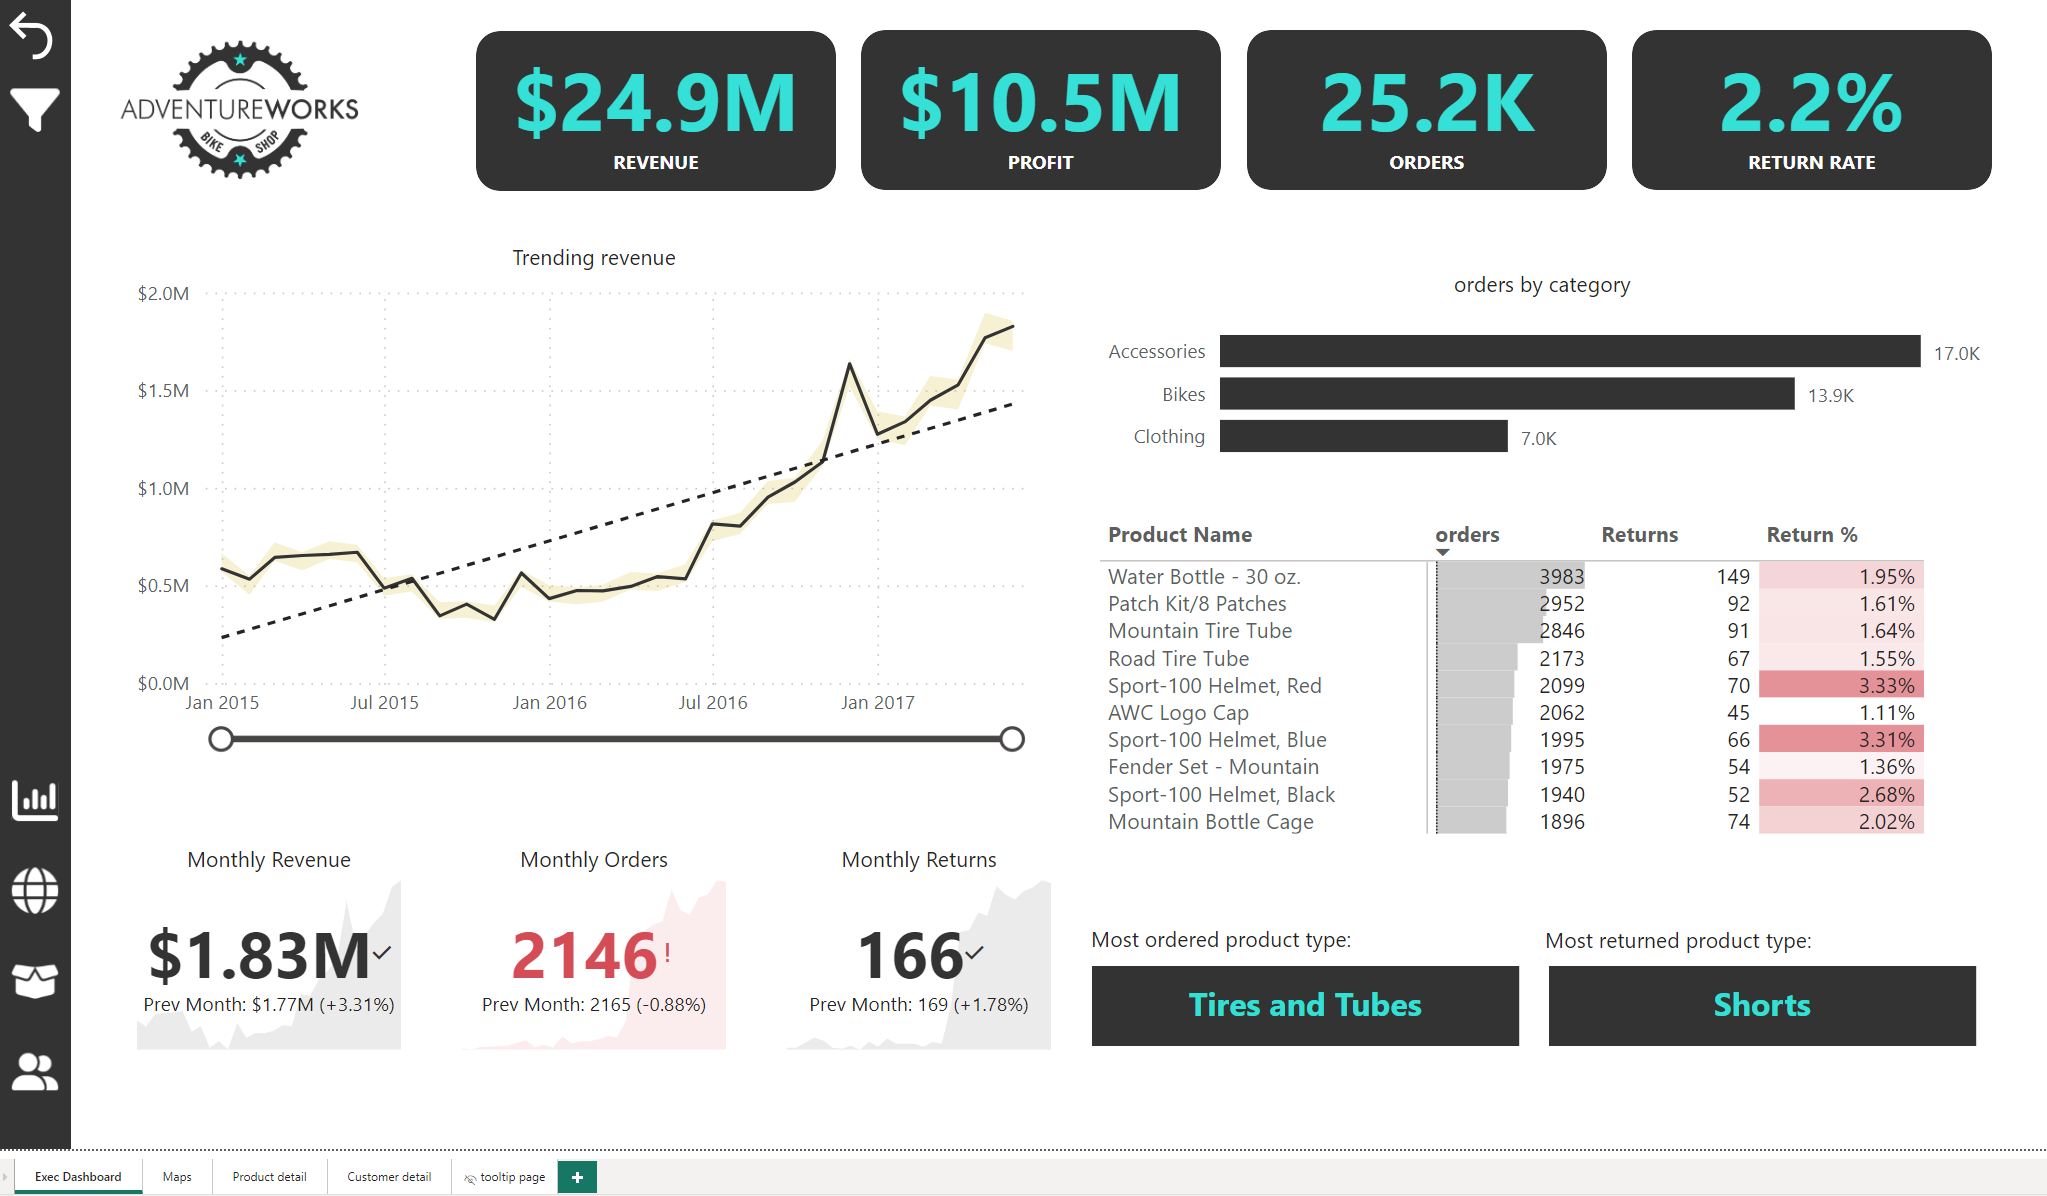

The page's visual inventory and layout, read from the dashboard file:
{"tool":"powerbi","page":{"name":"Exec Dashboard","canvas":[1280,720],"ordinal":0},"visuals":[{"type":"card","fields":{"Values":["Measure Table.Total revenue"]},"box":[312.3,16.1,196.1,108.2],"z":0,"group":"g2"},{"type":"image","title":"AW logo","box":[43.9,19.8,214,101.4],"z":0},{"type":"group","id":"g1","title":"KPI background","box":[298.1,20.6,947.5,100.6],"z":0,"group":"g3"},{"type":"shape","box":[298.1,21.2,225,100],"z":0,"group":"g1"},{"type":"actionButton","box":[0,483.7,45.2,37.1],"z":0,"group":"g4"},{"type":"shape","title":"Left Nav background","box":[0,0,45,720.6],"z":1000},{"type":"group","id":"g2","title":"KPI Valvues","box":[312.3,16.1,918.6,108.2],"z":1000,"group":"g3"},{"type":"card","fields":{"Values":["Measure Table.Total profit"]},"box":[553.1,16.1,196.1,108.2],"z":1000,"group":"g2"},{"type":"shape","box":[538.9,20.6,225,100],"z":1000,"group":"g1"},{"type":"actionButton","box":[0,596.7,45.2,37.1],"z":1000,"group":"g4"},{"type":"group","id":"g3","title":"KPI","box":[298.1,16.1,947.5,108.2],"z":2000},{"type":"card","fields":{"Values":["Measure Table.Total orders"]},"box":[793.9,16.1,196.1,108.2],"z":2000,"group":"g2"},{"type":"shape","box":[779.8,20.6,225,100],"z":2000,"group":"g1"},{"type":"actionButton","box":[0,540.2,45.2,37.1],"z":2000,"group":"g4"},{"type":"card","fields":{"Values":["Measure Table.Return rate"]},"box":[1034.8,16.1,196.1,108.2],"z":3000,"group":"g2"},{"type":"shape","box":[1020.6,20.6,225,100],"z":3000,"group":"g1"},{"type":"lineChart","title":"Trending revenue","fields":{"Y":["Measure Table.Total revenue"],"Category":["AW_Calendar_lookup.Start of Month"]},"box":[81,154,581.4,321],"z":3000},{"type":"actionButton","box":[0,653.2,45.2,37.1],"z":3000,"group":"g4"},{"type":"kpi","title":"Monthly Revenue","fields":{"Indicator":["Measure Table.Total revenue"],"TrendLine":["AW_Calendar_lookup.Start of Month"],"Goal":["Measure Table.previous month revenue"]},"box":[81,530.1,175.1,133],"z":4000},{"type":"kpi","title":"Monthly Orders","fields":{"TrendLine":["AW_Calendar_lookup.Start of Month"],"Indicator":["Measure Table.Total orders"],"Goal":["Measure Table.previous month orders"]},"box":[284.2,530.1,175.1,133],"z":5000},{"type":"kpi","title":"Monthly Returns","fields":{"TrendLine":["AW_Calendar_lookup.Start of Month"],"Indicator":["Measure Table.Total returns"],"Goal":["Measure Table.previous month returns"]},"box":[487.4,530.1,175.1,133],"z":6000},{"type":"clusteredBarChart","title":"orders by category","fields":{"Category":["AW_Product_Categories_lookup.CategoryName"],"Y":["Measure Table.Total orders"]},"box":[682.9,170.7,562.9,130.5],"z":7000},{"type":"pivotTable","fields":{"Rows":["AW_Products_lookup.ProductName"],"Values":["Measure Table.Total orders","Measure Table.Total returns","Measure Table.Return rate"]},"box":[682.9,321.6,562.9,208.5],"z":8000},{"type":"card","fields":{"Values":["Min(AW_Product_Subcategory_lookup.SubcategoryName)"]},"box":[682.9,605.6,266.6,50.1],"z":9000},{"type":"textbox","box":[677.3,575.3,204.7,30.3],"z":10000},{"type":"card","fields":{"Values":["Min(AW_Product_Subcategory_lookup.SubcategoryName)"]},"box":[968.7,605.6,266.6,50.1],"z":11000},{"type":"textbox","box":[961.3,575.4,204.7,30.3],"z":12000},{"type":"actionButton","box":[0,3.7,45.2,40.2],"z":13000},{"type":"group","id":"g4","title":"page navigation","box":[0,483.7,45.2,206.6],"z":14000},{"type":"actionButton","box":[0,51.3,45.2,39],"z":15000}]}

Visuals, with their boxes on the page's 1280x720 design canvas (x1, y1, x2, y2). These are canvas units, not pixel positions in the 2047x1196 screenshot, which may show the page scaled, cropped or inside an application window:
card - Measure Table.Total revenue: left=312, top=16, right=508, bottom=124
"AW logo" image: left=44, top=20, right=258, bottom=121
"KPI background" group: left=298, top=21, right=1246, bottom=121
shape: left=298, top=21, right=523, bottom=121
actionButton: left=0, top=484, right=45, bottom=521
"Left Nav background" shape: left=0, top=0, right=45, bottom=721
"KPI Valvues" group: left=312, top=16, right=1231, bottom=124
card - Measure Table.Total profit: left=553, top=16, right=749, bottom=124
shape: left=539, top=21, right=764, bottom=121
actionButton: left=0, top=597, right=45, bottom=634
"KPI" group: left=298, top=16, right=1246, bottom=124
card - Measure Table.Total orders: left=794, top=16, right=990, bottom=124
shape: left=780, top=21, right=1005, bottom=121
actionButton: left=0, top=540, right=45, bottom=577
card - Measure Table.Return rate: left=1035, top=16, right=1231, bottom=124
shape: left=1021, top=21, right=1246, bottom=121
"Trending revenue" lineChart: left=81, top=154, right=662, bottom=475
actionButton: left=0, top=653, right=45, bottom=690
"Monthly Revenue" kpi: left=81, top=530, right=256, bottom=663
"Monthly Orders" kpi: left=284, top=530, right=459, bottom=663
"Monthly Returns" kpi: left=487, top=530, right=662, bottom=663
"orders by category" clusteredBarChart: left=683, top=171, right=1246, bottom=301
pivotTable - AW_Products_lookup.ProductName x Measure Table.Total orders: left=683, top=322, right=1246, bottom=530
card - Min(AW_Product_Subcategory_lookup.SubcategoryName): left=683, top=606, right=950, bottom=656
textbox: left=677, top=575, right=882, bottom=606
card - Min(AW_Product_Subcategory_lookup.SubcategoryName): left=969, top=606, right=1235, bottom=656
textbox: left=961, top=575, right=1166, bottom=606
actionButton: left=0, top=4, right=45, bottom=44
"page navigation" group: left=0, top=484, right=45, bottom=690
actionButton: left=0, top=51, right=45, bottom=90
